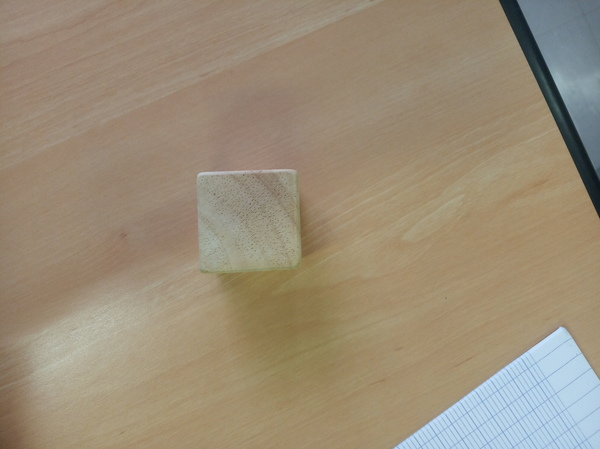violet: (198, 169, 306, 275)
